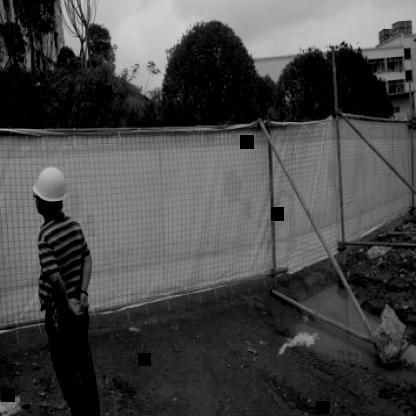helmet: (30, 162, 70, 221)
